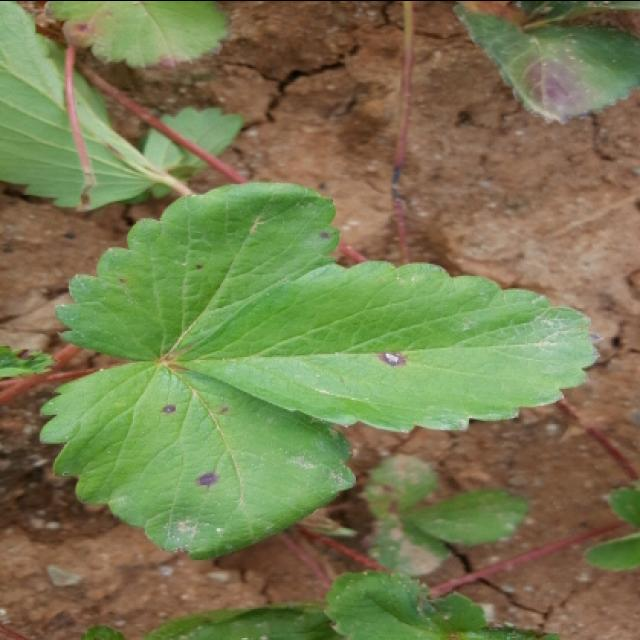Leaf Spot: (169, 258, 606, 434), (40, 361, 358, 559), (55, 181, 341, 360), (40, 0, 234, 70), (357, 452, 439, 521)
